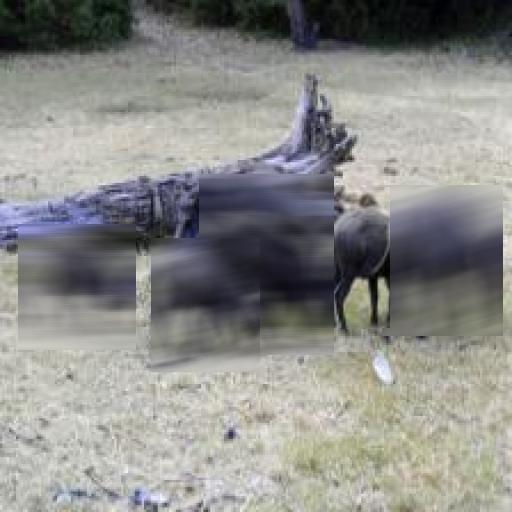Pig: (199, 174, 334, 355), (382, 185, 503, 336), (18, 224, 136, 350), (151, 238, 260, 372), (320, 187, 390, 328)
